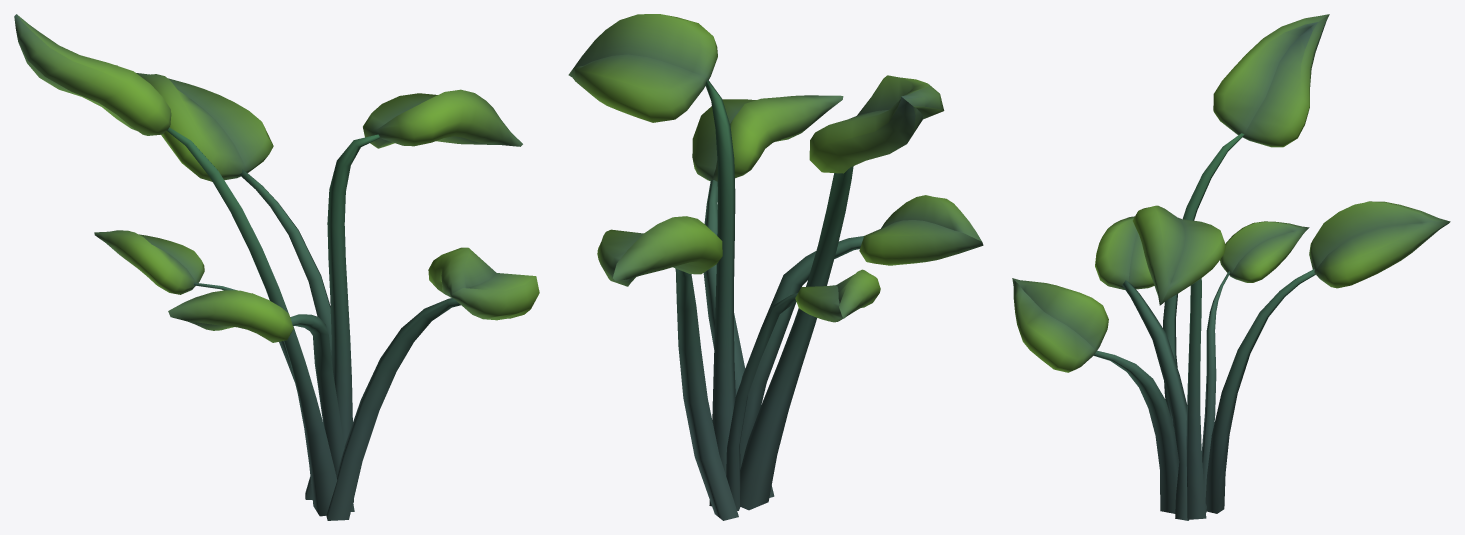
Rendered from Grass_03.fbx.
3 views of the same model, side by side, from view 1: azimuth 30°, elevation 25°; view 2: azimuth 150°, elevation 25°; view 3: azimuth 270°, elevation 25° (orthographic). The views are drawn at different scales.
Parts seen in each view (by area): view 1: Grass_03; view 2: Grass_03; view 3: Grass_03.
Boxes of the visible parts, bbox=[...] form: Grass_03: bbox=[14, 14, 539, 520]; Grass_03: bbox=[568, 14, 983, 520]; Grass_03: bbox=[1012, 14, 1450, 520].
Size of the model in its own units: 95.65 by 107 by 105.
